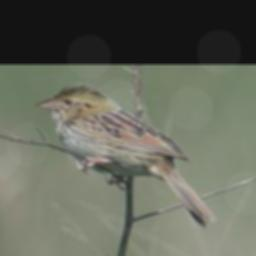Sparrow: (31, 81, 222, 230)
